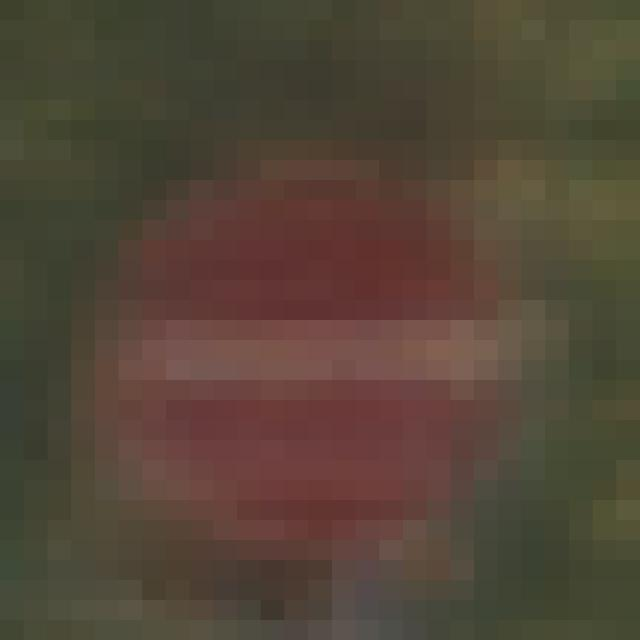No Entry: (120, 121, 523, 541)
